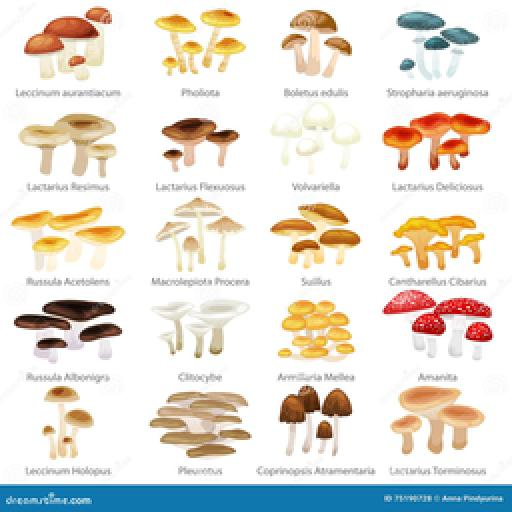mushrooms: (380, 288, 496, 366), (11, 201, 126, 272), (388, 383, 486, 462), (383, 106, 491, 176), (12, 300, 122, 366), (146, 390, 254, 456), (268, 198, 364, 272), (18, 111, 119, 180), (156, 194, 242, 274), (23, 5, 113, 81), (154, 7, 246, 78), (152, 296, 250, 360), (273, 100, 361, 170), (393, 10, 479, 81), (276, 384, 354, 458), (390, 212, 486, 270), (153, 116, 247, 174), (280, 6, 352, 81), (276, 299, 358, 362), (40, 384, 96, 464)
